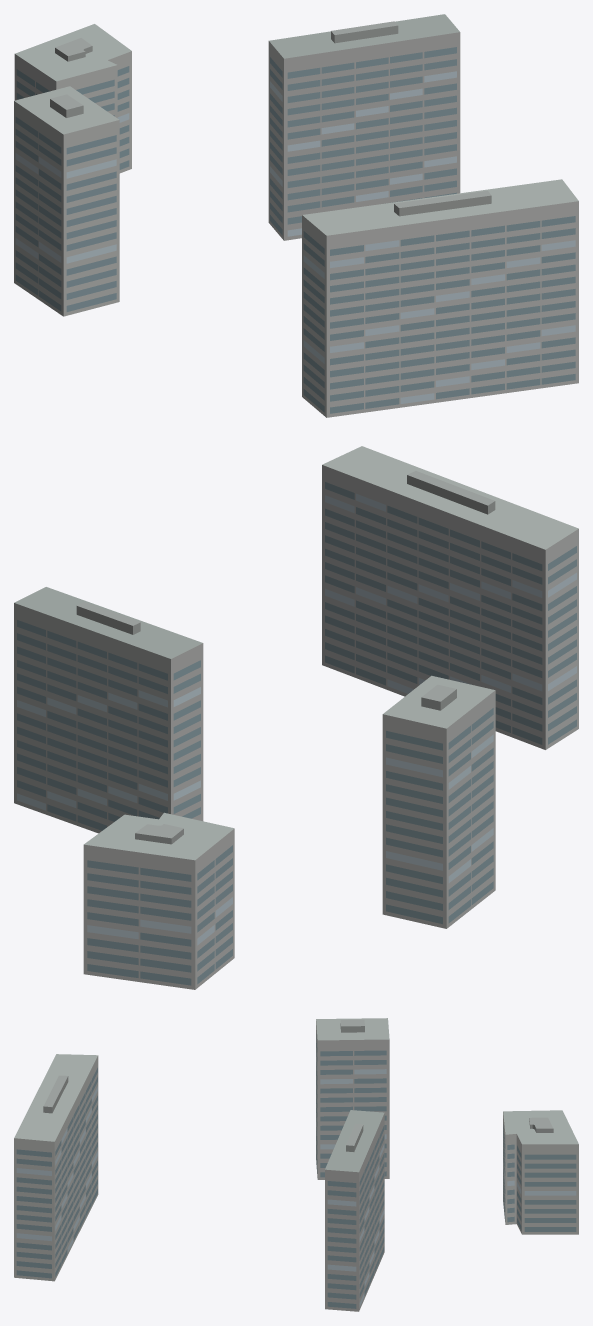
The model's file is apt-a15805102.glb.
3 views of the same model, one above another, from view 1: azimuth 30°, elevation 25°; view 2: azimuth 150°, elevation 25°; view 3: azimuth 270°, elevation 25° (orthographic). The views are drawn at different scales.
Parts seen in each view (by area): view 1: apt-a15805102; view 2: apt-a15805102; view 3: apt-a15805102.
Part boxes in pixels (x1,y1,x2,y2): apt-a15805102: (14, 14, 578, 417); apt-a15805102: (14, 446, 578, 989); apt-a15805102: (14, 1018, 578, 1311).
Bounding box in the file's own units: 108 × 47.81 × 168.
